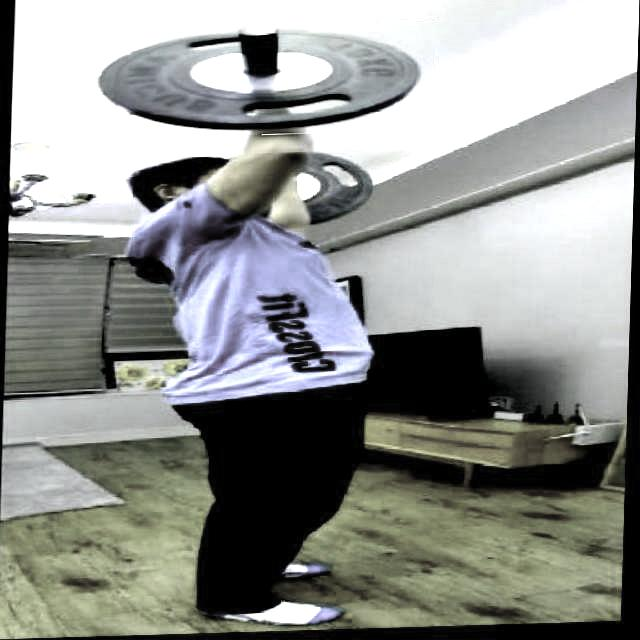barbell: (91, 16, 437, 141)
